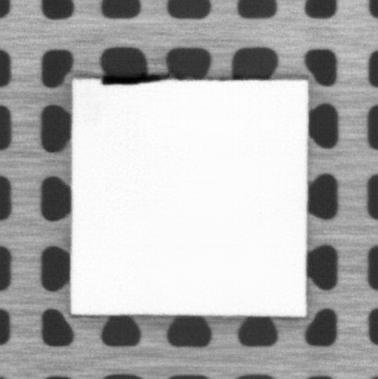DIE_BROKEN: (99, 73, 167, 88)
